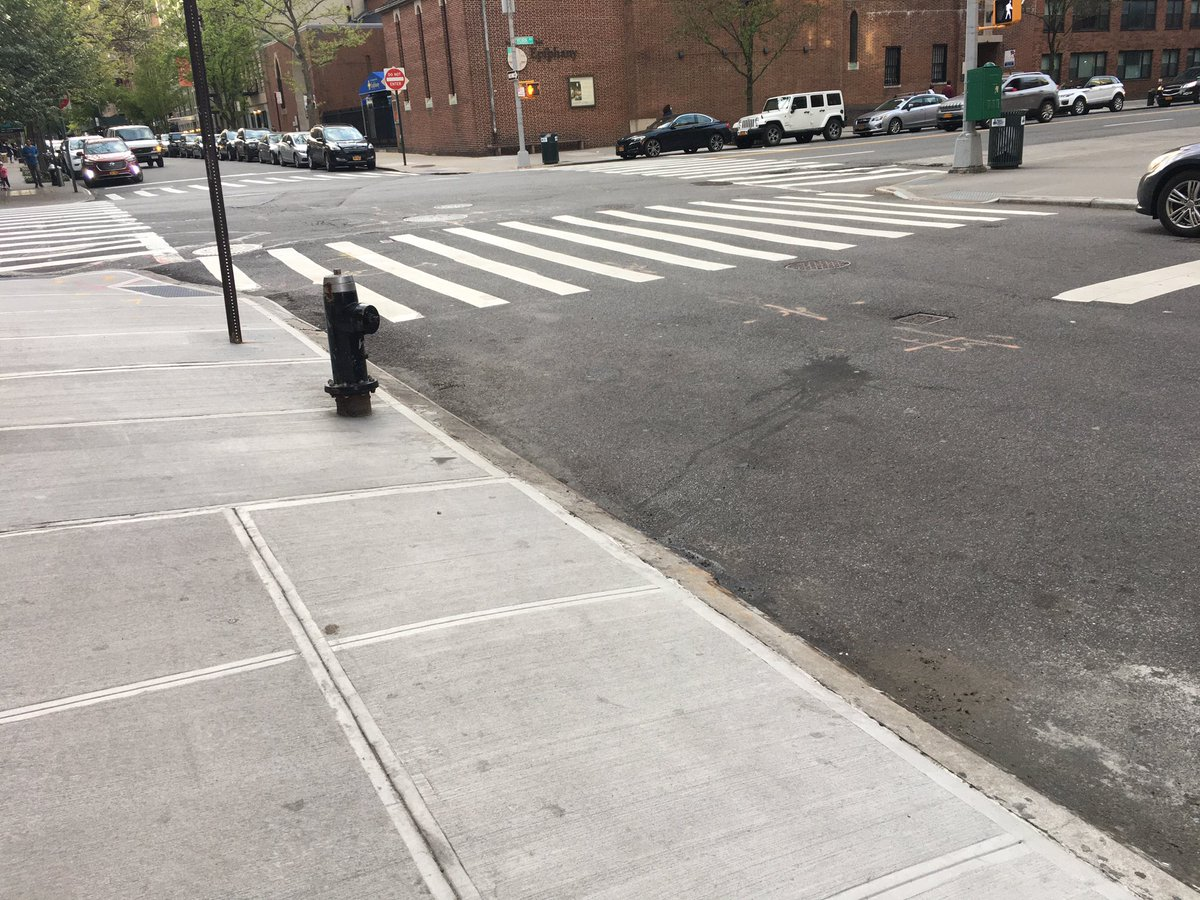building: (389, 1, 988, 152), (989, 1, 1200, 126), (237, 1, 384, 143)
car: (606, 98, 734, 166), (727, 81, 856, 136), (860, 87, 952, 146), (303, 120, 390, 180)
crosswalk: (241, 152, 1012, 344), (118, 158, 427, 222), (1, 196, 163, 281)
sidewalk: (1, 274, 1044, 900)
tree: (1, 1, 179, 170)
